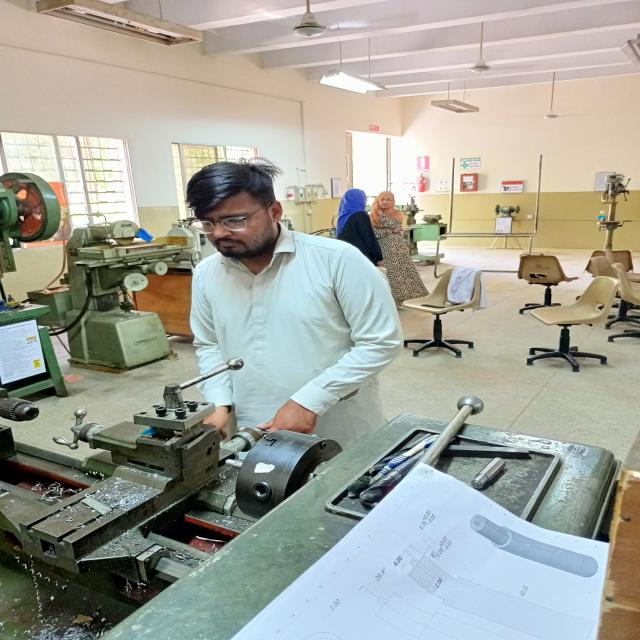dress: (185, 220, 404, 436), (372, 200, 437, 310), (329, 182, 388, 281)
glasses: (179, 210, 274, 237)
